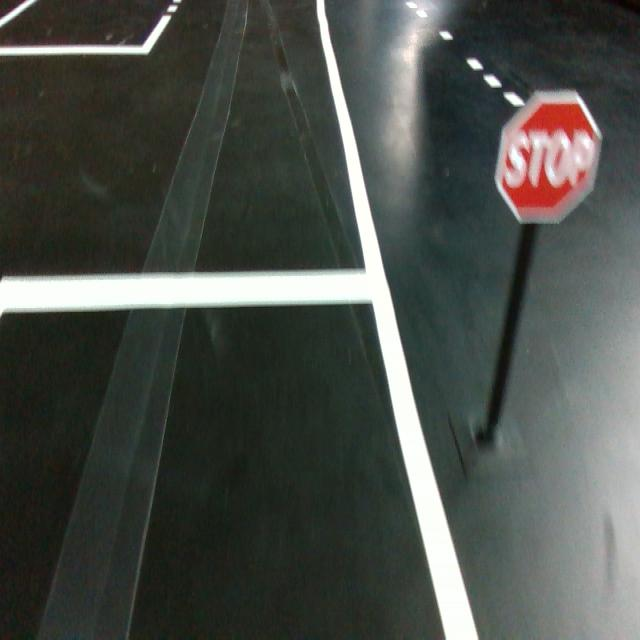stop-sign: (493, 89, 602, 224)
